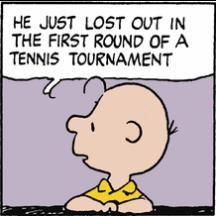charlie: (64, 74, 178, 213)
